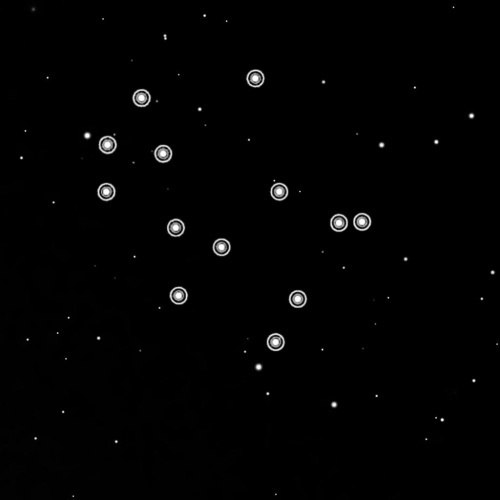gemini: (80, 59, 377, 366)
